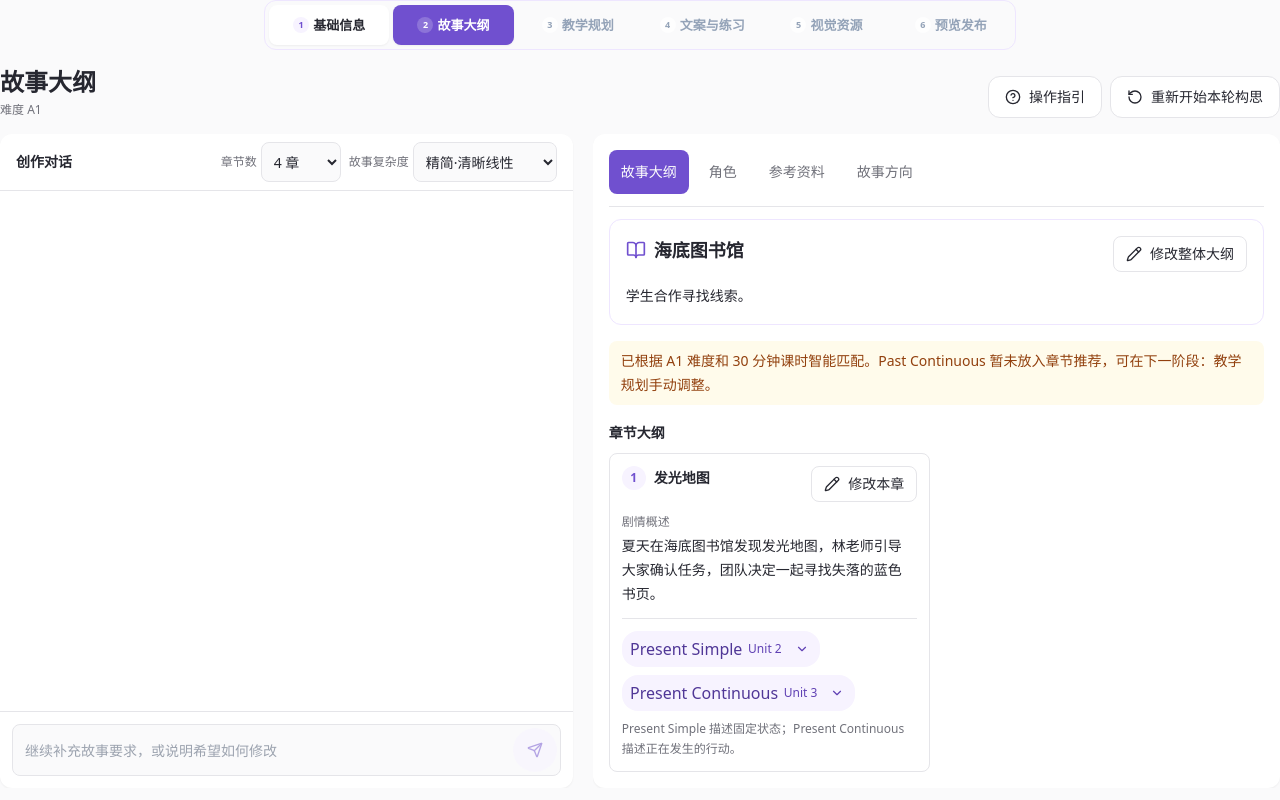
Test: CourseStoryOutlineWorkspace › shows knowledge point labels without a Step 2 word recommendation and names the teaching-plan stage
Expected: the text "Present Simple" is shown, [630,637,742,661]
Expected: the text "Present Continuous" is shown, [630,681,778,705]
Step 1. Click the button named "展开 Unit 2 · Present Simple 的语法要点" → (802,649), box [788,635,816,663]
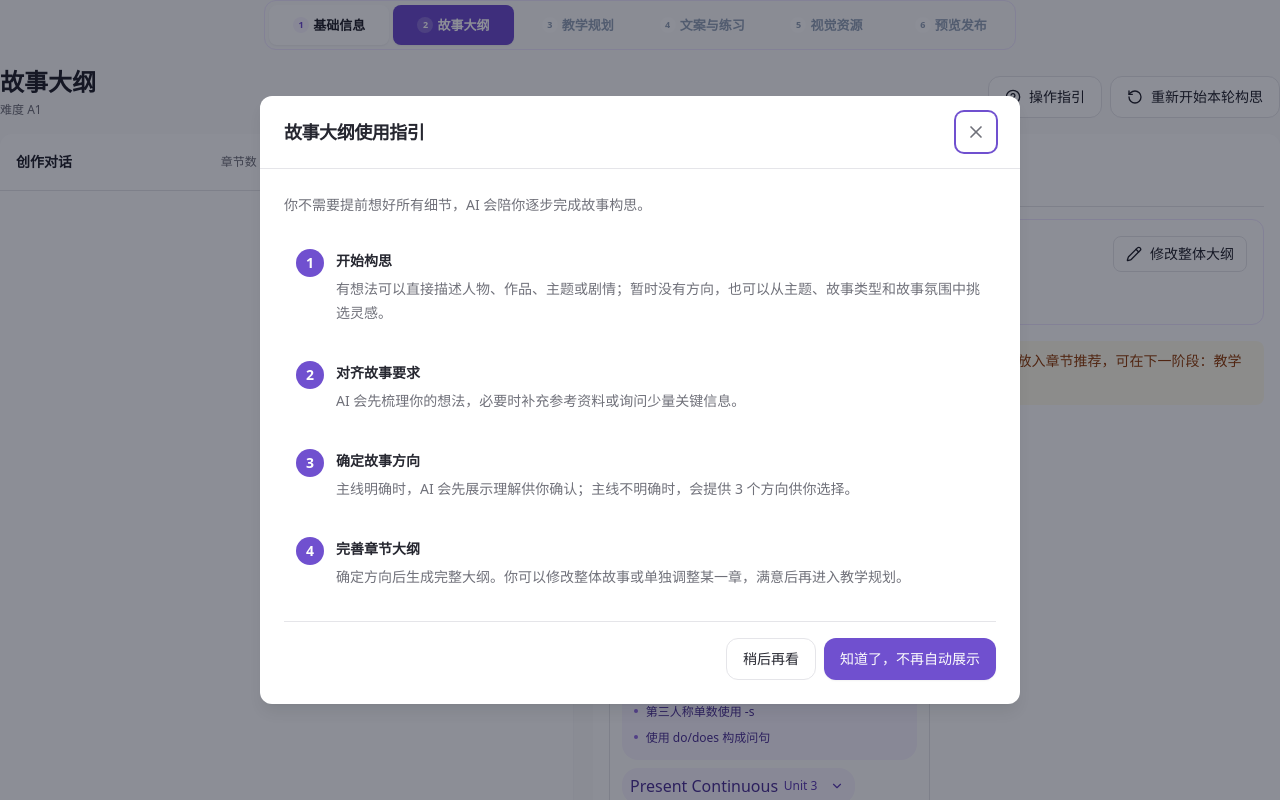
Expected: the text "已根据 A1 难度和 30 分钟课时智能匹配。Past Continuous 暂未放入章节推荐，可在下一阶段：教学规划手动调整。" is shown, [609,341,1264,405]
Now the text "使用一般现在时描述习惯" is shown, box [646,676,778,696]
